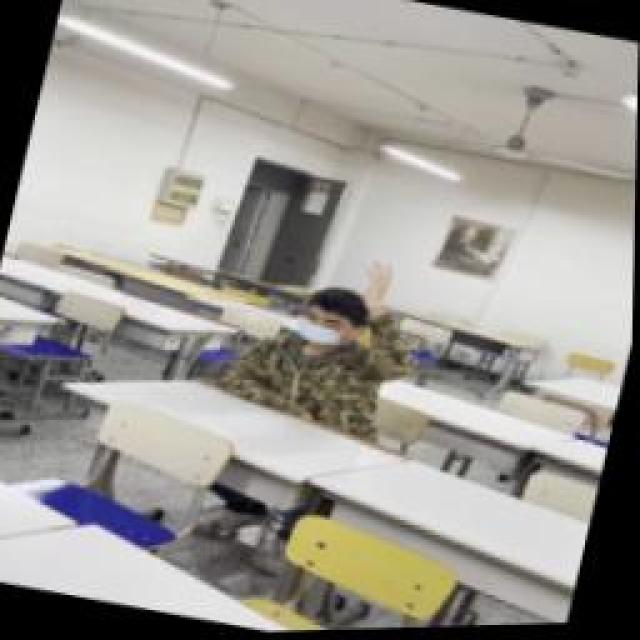study: (212, 235, 440, 450)
